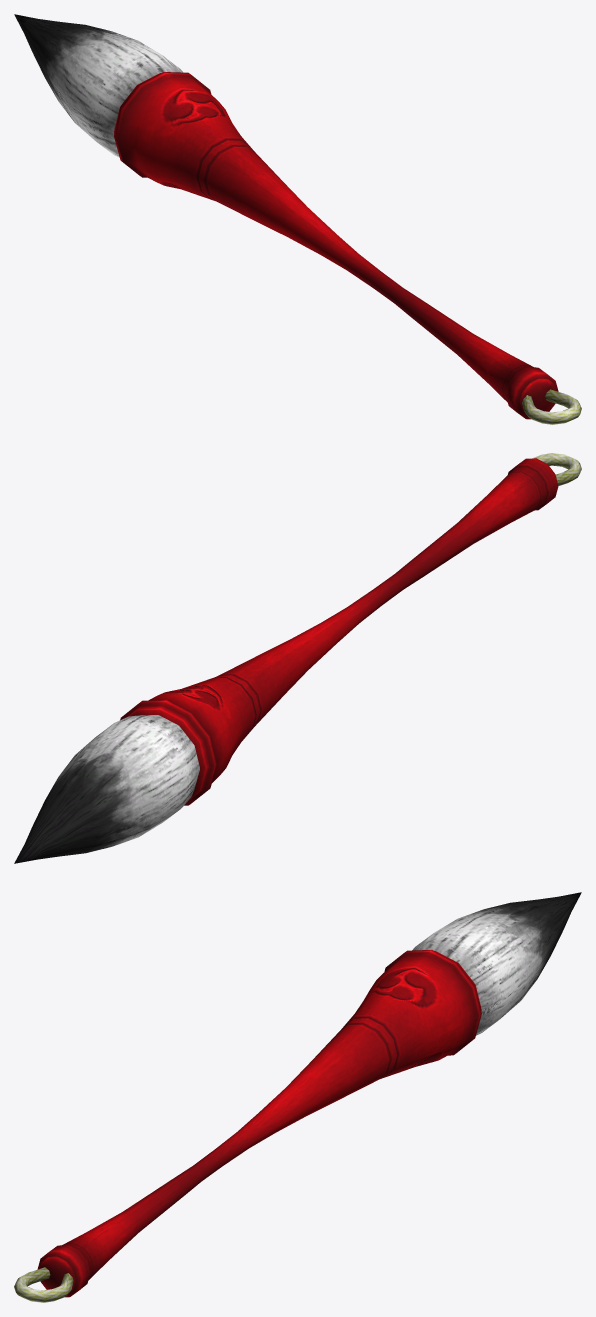
File: sword_l_fude_red_fude_red.glb
3 renders of one model, top to bottom at view 1: azimuth 30°, elevation 25°; view 2: azimuth 150°, elevation 25°; view 3: azimuth 330°, elevation 25°, orthographic.
Size of the model in its own units: 0.2806 by 0.2797 by 2.7.
1 material, 1 textured.
